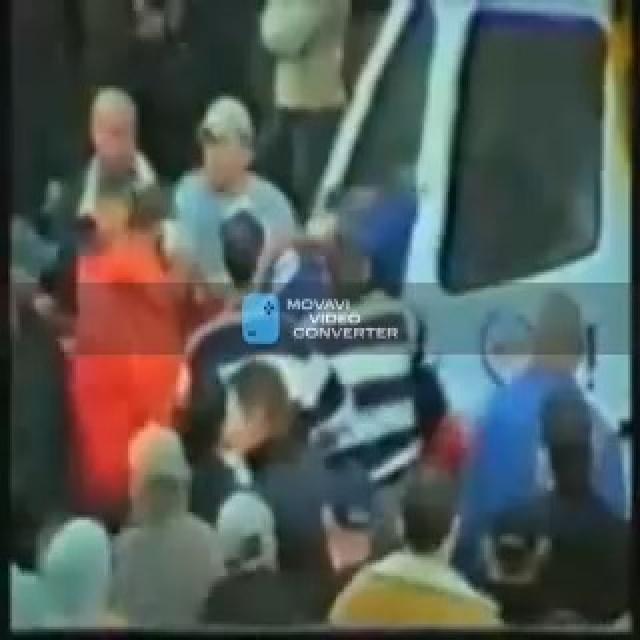non-voilence: (4, 0, 636, 635), (170, 93, 298, 296)
